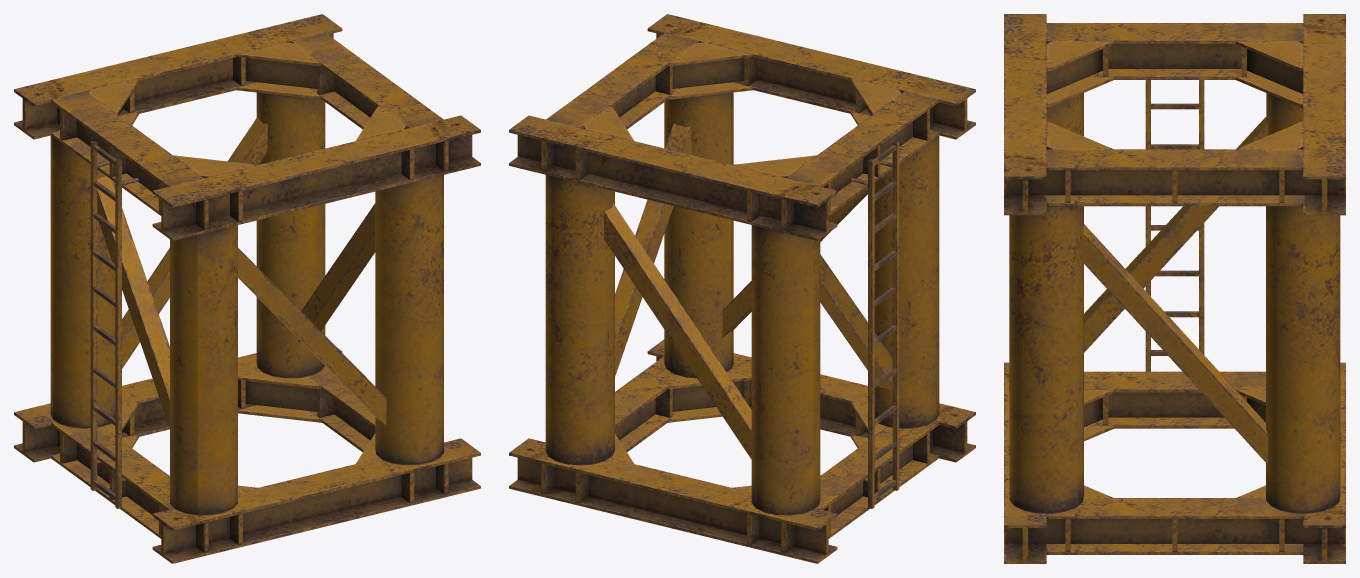
The model's file is sm22_103_shipyardparts01a.fbx.
3 views of the same model, side by side, from view 1: azimuth 30°, elevation 25°; view 2: azimuth 150°, elevation 25°; view 3: azimuth 270°, elevation 25° (orthographic). The views are drawn at different scales.
Parts seen in each view (by area): view 1: LOD_1_Group_0_Sub_1__sm22_103_shipyardParts_A_Mat; view 2: LOD_1_Group_0_Sub_1__sm22_103_shipyardParts_A_Mat; view 3: LOD_1_Group_0_Sub_1__sm22_103_shipyardParts_A_Mat.
Boxes of the visible parts, box(x1,y1,x2,y2) form: LOD_1_Group_0_Sub_1__sm22_103_shipyardParts_A_Mat: box(14, 14, 480, 563); LOD_1_Group_0_Sub_1__sm22_103_shipyardParts_A_Mat: box(509, 14, 975, 563); LOD_1_Group_0_Sub_1__sm22_103_shipyardParts_A_Mat: box(1004, 14, 1345, 563).
Bounding box in the file's own units: 3.6 × 4 × 3.2.
